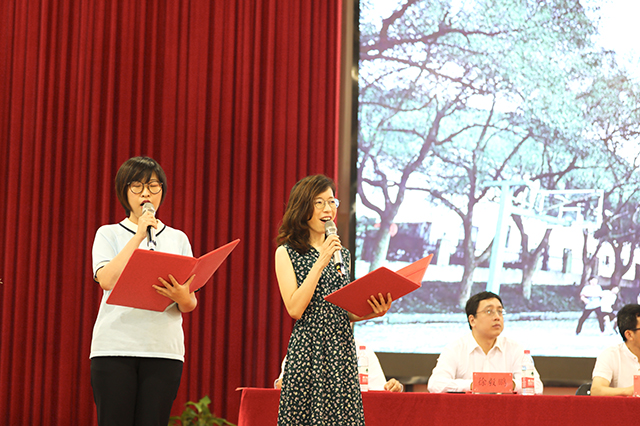noWear: (126, 174, 164, 221), (309, 192, 339, 237), (479, 302, 507, 340), (624, 313, 640, 343)
